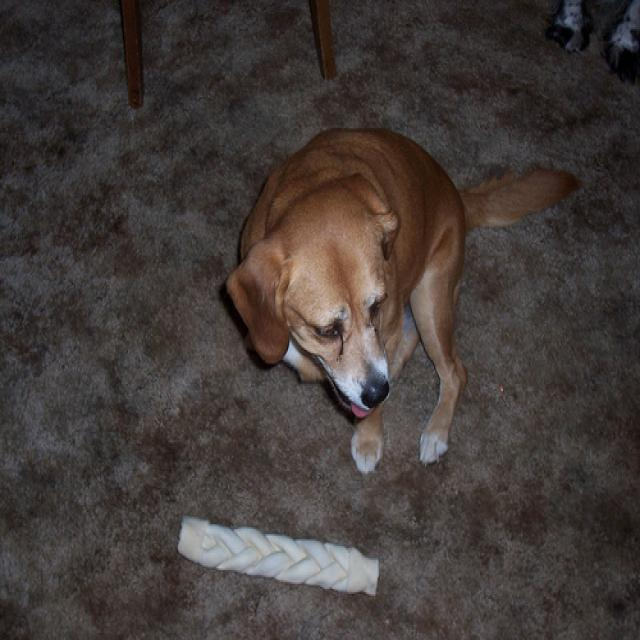dog-beagle: (216, 118, 588, 486)
